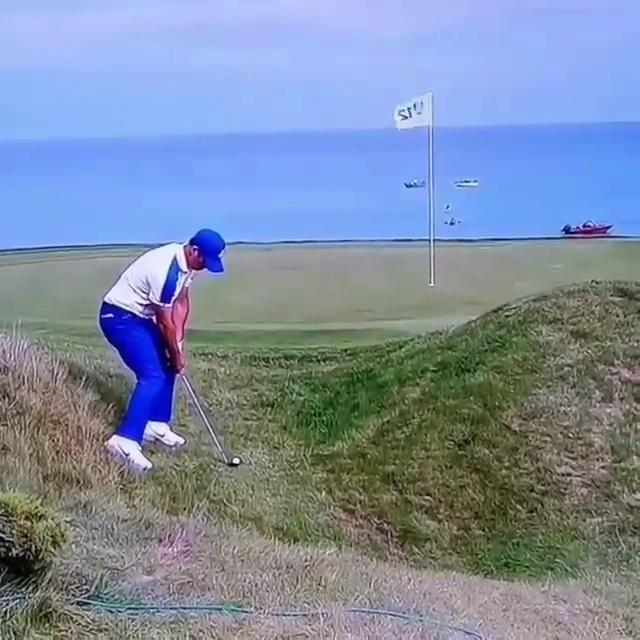ClubHead: (224, 456, 243, 466)
